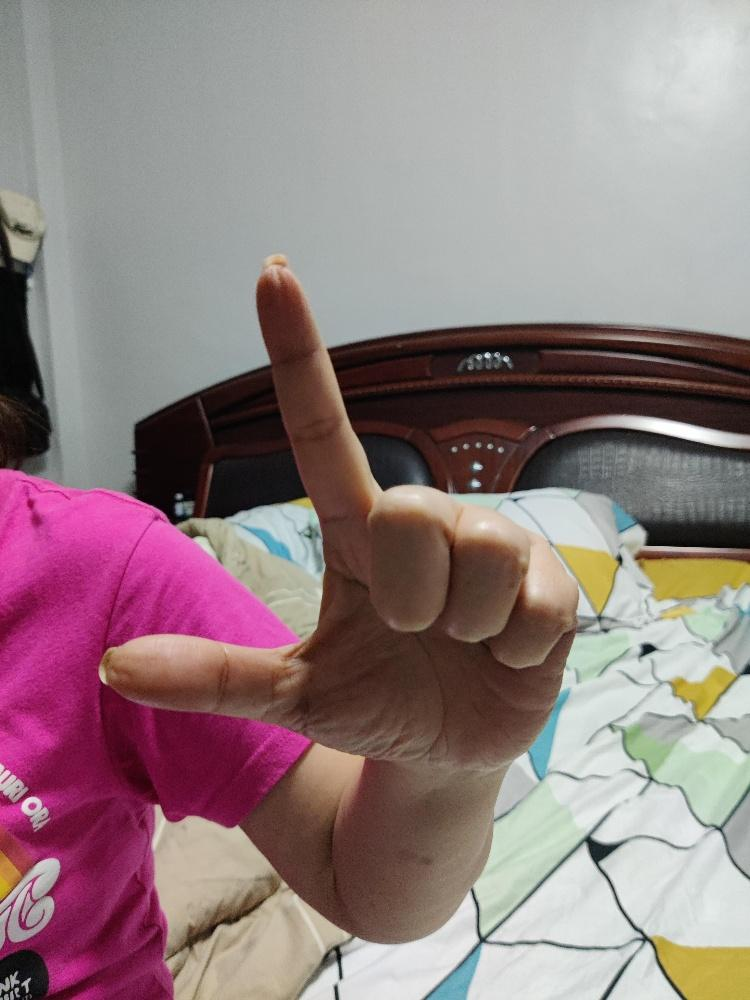l: (95, 250, 581, 770)
